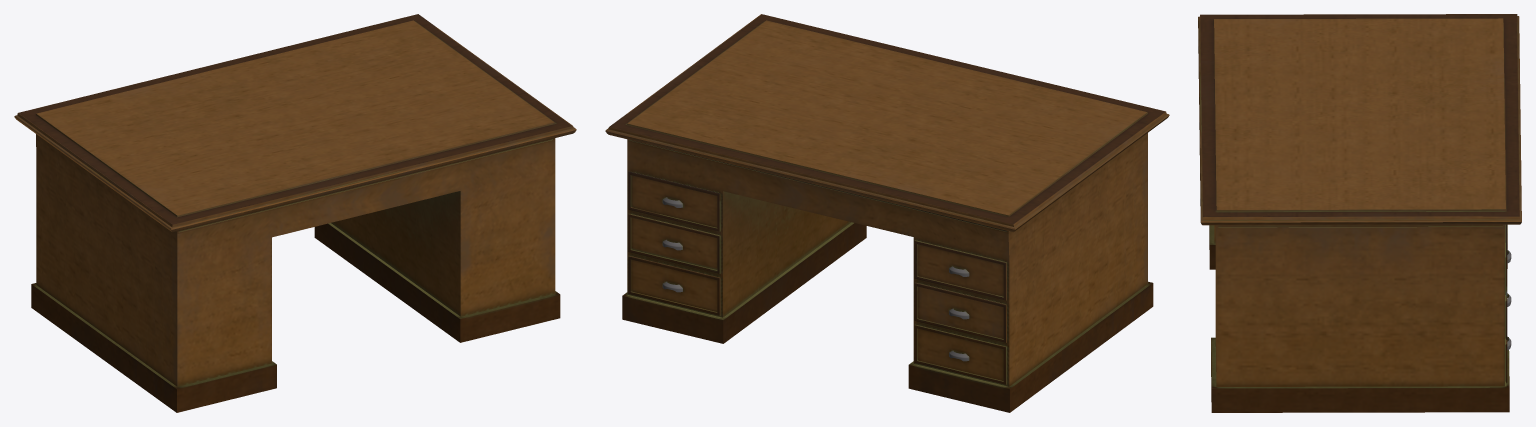
The model's file is Desk.fbx.
The picture shows the model from 3 angles, left to right: view 1: azimuth 30°, elevation 25°; view 2: azimuth 150°, elevation 25°; view 3: azimuth 270°, elevation 25°; orthographic projection. The views are drawn at different scales.
Visible parts, largest first — view 1: Desk; view 2: Desk; view 3: Desk.
Part boxes in pixels (left/top/right/bottom): Desk: left=14, top=14, right=576, bottom=412; Desk: left=605, top=14, right=1169, bottom=412; Desk: left=1198, top=14, right=1521, bottom=412.
Bounding box in the file's own units: 181 × 82.6 × 120.
